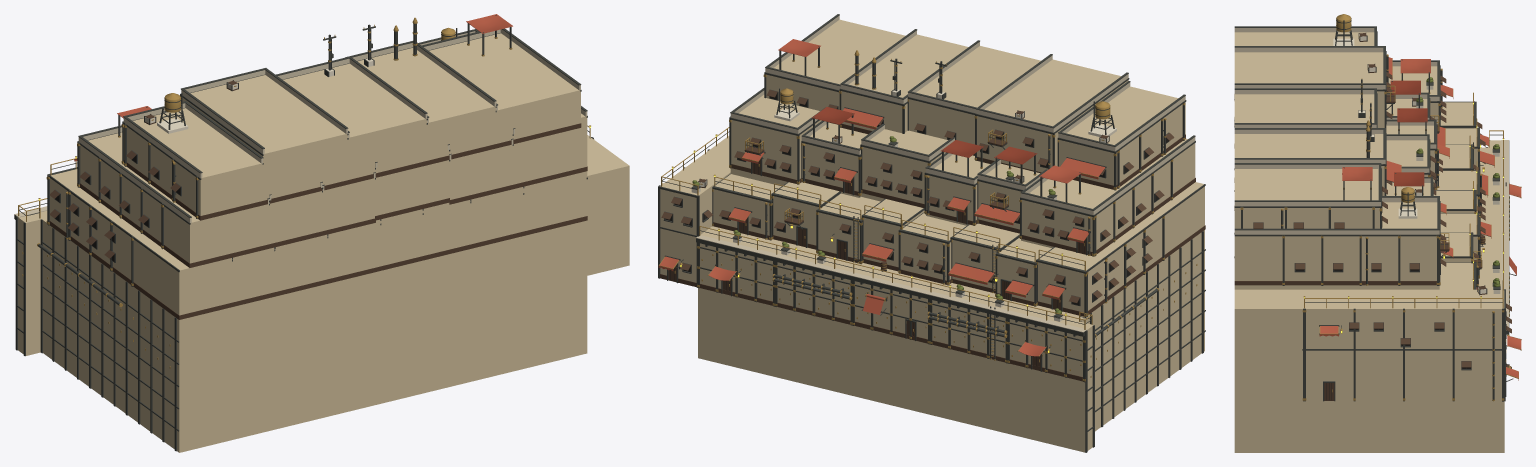
File: terrace_west.glb
3 renders of one model, left to right at view 1: azimuth 30°, elevation 25°; view 2: azimuth 150°, elevation 25°; view 3: azimuth 270°, elevation 25°, orthographic. The views are drawn at different scales.
Visible parts, largest first — view 1: terrace_west; view 2: terrace_west; view 3: terrace_west.
Boxes of the visible parts, left/top/right/bottom form: terrace_west: left=14, top=14, right=629, bottom=452; terrace_west: left=658, top=14, right=1205, bottom=452; terrace_west: left=1234, top=14, right=1521, bottom=452.
Size of the model in its own units: 44.96 by 28.3 by 25.55.
